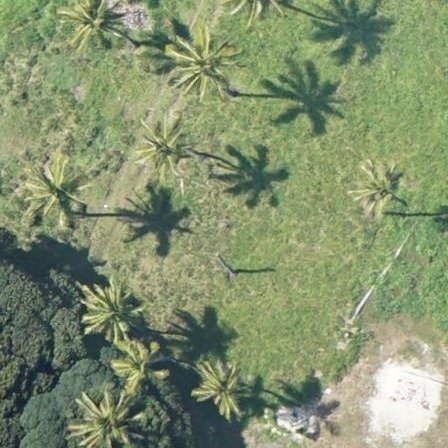palm_tree: (18, 157, 90, 224), (168, 30, 232, 91), (79, 283, 139, 343), (69, 392, 132, 448), (110, 340, 170, 391), (138, 119, 192, 175), (62, 1, 124, 49), (192, 364, 248, 417), (348, 160, 402, 214), (223, 1, 290, 24)
